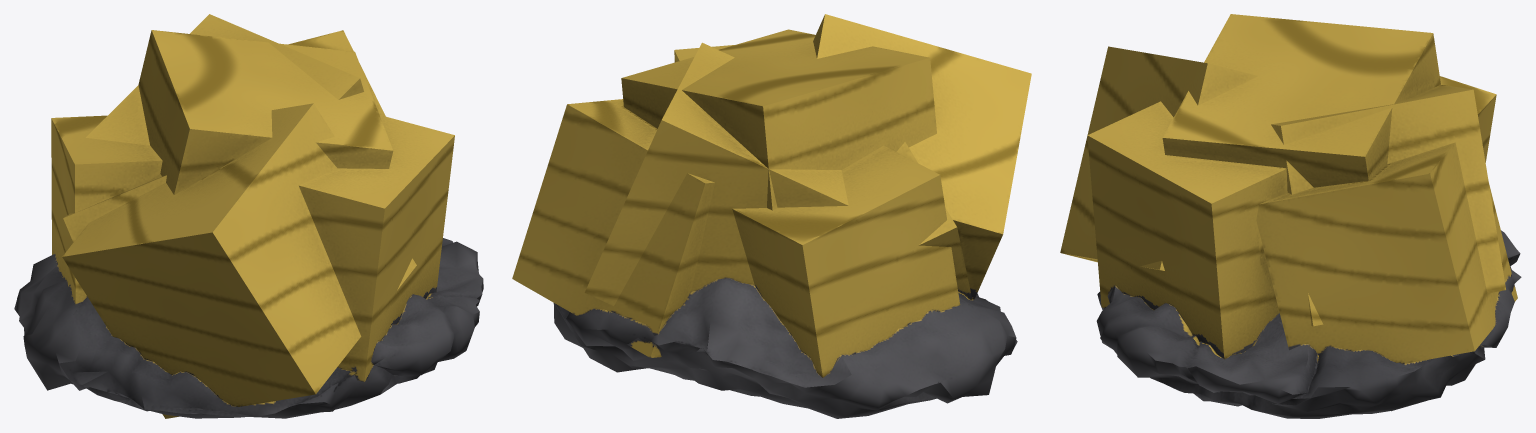
Rendered from pirita.fbx.
3 views of the same model, side by side, from view 1: azimuth 30°, elevation 25°; view 2: azimuth 150°, elevation 25°; view 3: azimuth 270°, elevation 25° (orthographic). The views are drawn at different scales.
Parts seen in each view (by area): view 1: pirita; view 2: pirita; view 3: pirita.
Boxes of the visible parts, x1,y1,x2,y2 form: pirita: [14, 14, 483, 418]; pirita: [512, 14, 1031, 418]; pirita: [1060, 14, 1521, 418].
Size of the model in its own units: 2.34 by 1.58 by 2.17.
Materials: 1 (1 with a texture image).
